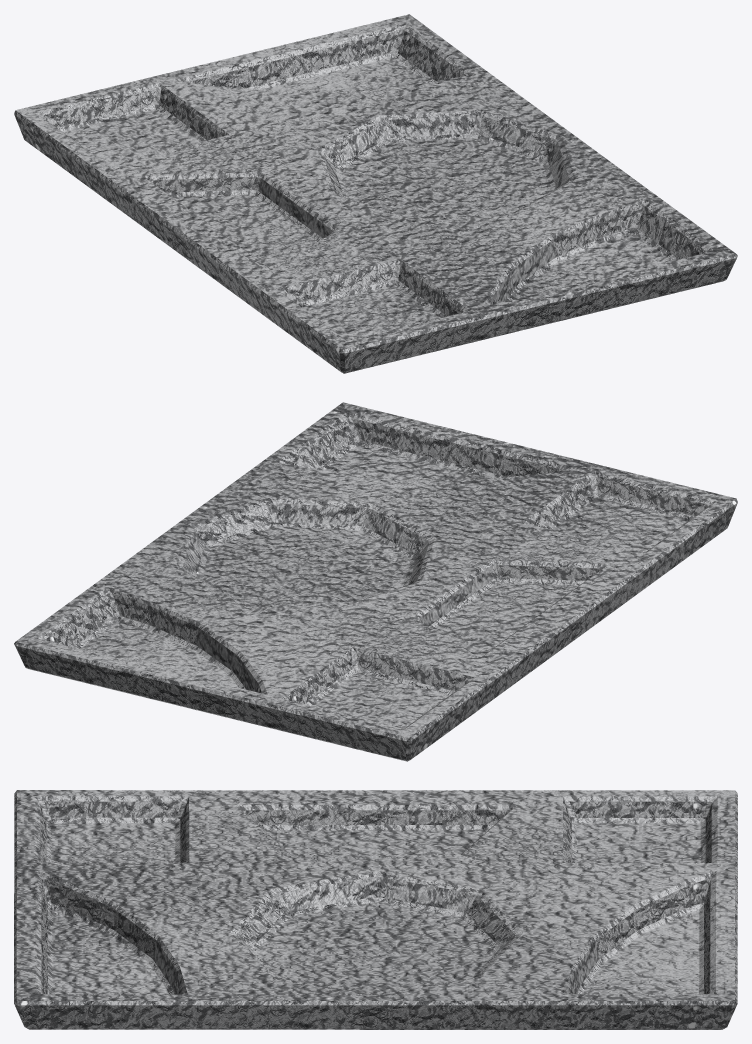
Rendered from tray.obj.
3 views of the same model, one above another, from view 1: azimuth 30°, elevation 25°; view 2: azimuth 150°, elevation 25°; view 3: azimuth 270°, elevation 25° (orthographic). The views are drawn at different scales.
Visible parts, largest first — view 1: tray; view 2: tray; view 3: tray.
Boxes of the visible parts, left/top/right/bottom form: tray: left=14, top=14, right=737, bottom=373; tray: left=14, top=402, right=737, bottom=761; tray: left=14, top=790, right=737, bottom=1029.
Bounding box in the file's own units: 0.4545 × 0.0325 × 0.6523.
